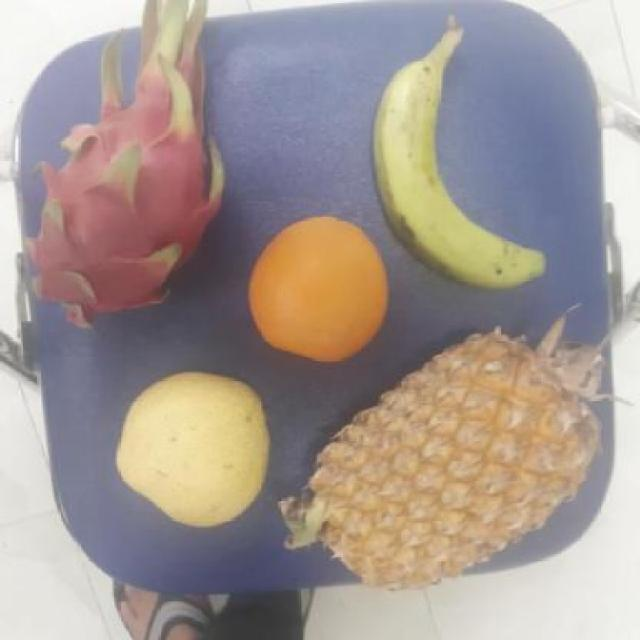banana: (376, 36, 526, 282)
dragon fruit: (18, 25, 230, 326)
oren: (245, 215, 390, 359)
pear: (113, 367, 276, 528)
pineapple: (306, 335, 609, 583)
